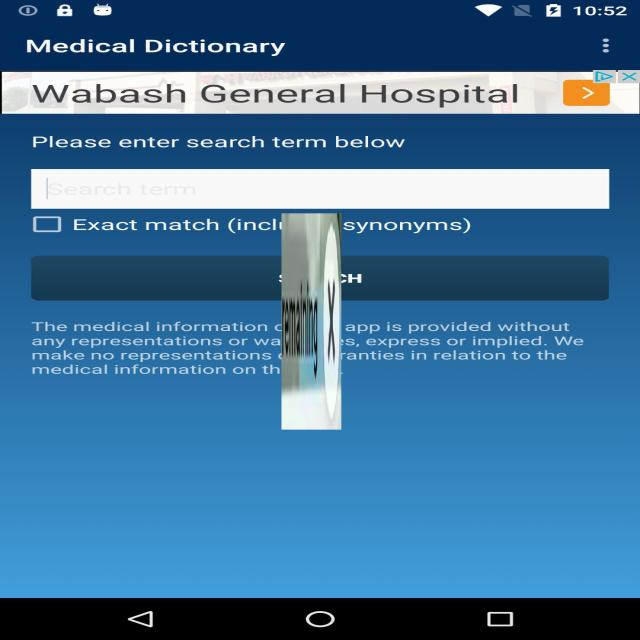misdirection: (282, 213, 342, 430)
